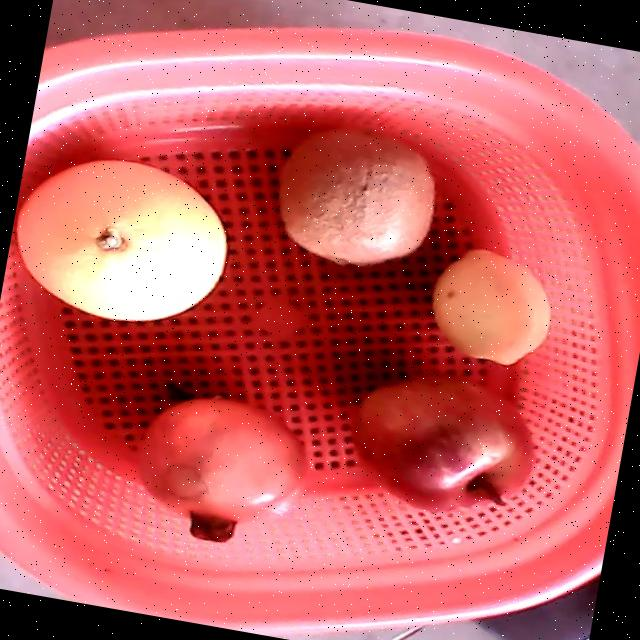apple: (351, 372, 535, 515)
kiwi: (278, 128, 433, 265)
lemon: (430, 248, 550, 366)
orange: (15, 160, 226, 321)
pomegranate: (133, 397, 307, 543)
